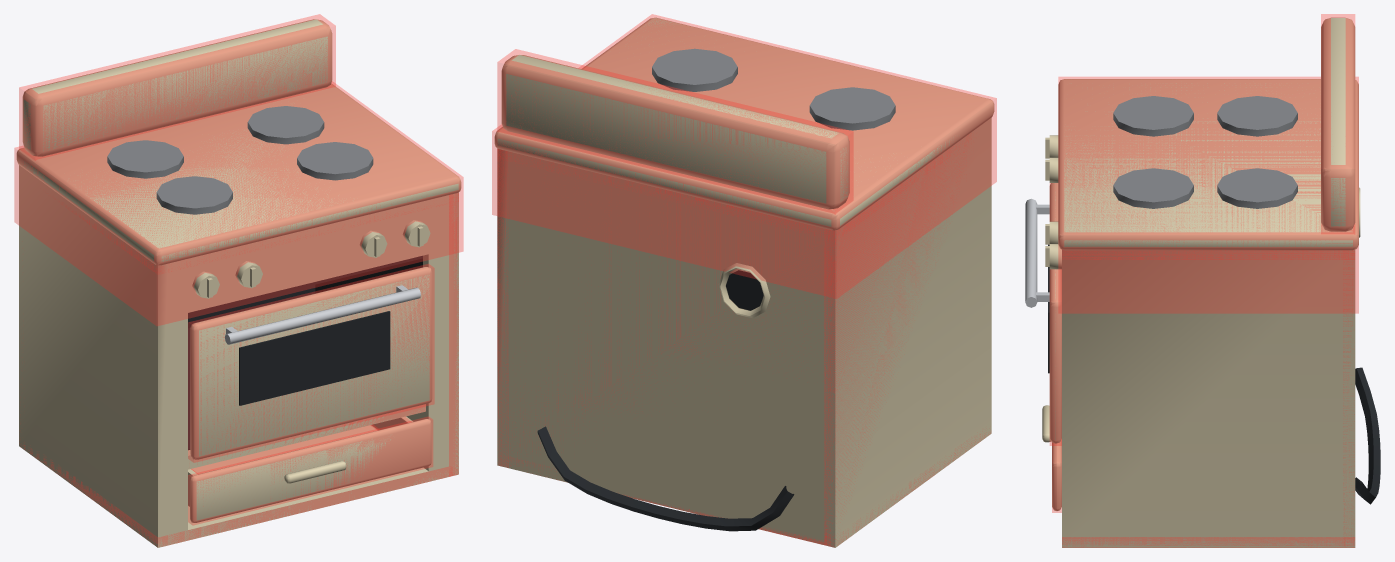
The model's file is StoveO01.glb.
3 renders of one model, left to right at view 1: azimuth 30°, elevation 25°; view 2: azimuth 150°, elevation 25°; view 3: azimuth 270°, elevation 25°, orthographic. The views are drawn at different scales.
Visible parts, largest first — view 1: Body_Cream, Col_Top, OvenFlap_Cream, Col_Backsplash, Drawer1_Cream, Body_Burners, Col_OvenFlap, OvenFlap_Dark, Col_Drawer1Front, Col_Bottom, Body_Dark, Col_SideRight (+3 smaller); view 2: Body_Cream, Col_Top, Col_Backsplash, Body_Burners, Body_Dark, Col_SideLeft, Col_SideRight, Col_Back, Col_Bottom; view 3: Body_Cream, Col_Top (×2), Body_Burners, Col_Backsplash, Col_Bottom, OvenFlap_Cream, Col_OvenFlap, Body_Dark, OvenFlap_Chrome, Drawer1_Cream, Col_Drawer1Front.
Boxes of the visible parts, left/top/right/bottom form: Body_Cream: left=16, top=19, right=461, bottom=547; Col_Top: left=14, top=81, right=463, bottom=325; OvenFlap_Cream: left=190, top=267, right=432, bottom=459; Col_Backsplash: left=19, top=14, right=335, bottom=160; Drawer1_Cream: left=188, top=416, right=431, bottom=522; Body_Burners: left=107, top=106, right=373, bottom=214; Col_OvenFlap: left=188, top=264, right=434, bottom=462; OvenFlap_Dark: left=239, top=311, right=390, bottom=405; Col_Drawer1Front: left=188, top=416, right=432, bottom=525; Col_Bottom: left=24, top=445, right=452, bottom=546; Body_Dark: left=188, top=256, right=422, bottom=449; Col_SideRight: left=449, top=195, right=458, bottom=476; Body_Cream: left=494, top=17, right=994, bottom=547; Col_Top: left=492, top=14, right=996, bottom=298; Col_Backsplash: left=497, top=49, right=853, bottom=214; Body_Burners: left=652, top=48, right=895, bottom=130; Body_Dark: left=537, top=270, right=794, bottom=531; Col_SideLeft: left=824, top=173, right=942, bottom=535; Col_SideRight: left=497, top=149, right=508, bottom=467; Col_Back: left=510, top=220, right=835, bottom=544; Col_Bottom: left=501, top=433, right=990, bottom=547; Body_Cream: left=1045, top=17, right=1360, bottom=547; Col_Top (×2): left=1058, top=77, right=1358, bottom=313; Body_Burners: left=1113, top=96, right=1297, bottom=208; Col_Backsplash: left=1321, top=14, right=1354, bottom=234; Col_Bottom: left=1062, top=537, right=1354, bottom=547; OvenFlap_Cream: left=1049, top=183, right=1061, bottom=443; Col_OvenFlap: left=1050, top=183, right=1061, bottom=445; Body_Dark: left=1355, top=367, right=1380, bottom=504; OvenFlap_Chrome: left=1025, top=198, right=1049, bottom=307; Drawer1_Cream: left=1042, top=405, right=1061, bottom=510; Col_Drawer1Front: left=1052, top=439, right=1061, bottom=512.
Bounding box in the file's own units: 3.06 × 3.45 × 2.91.
